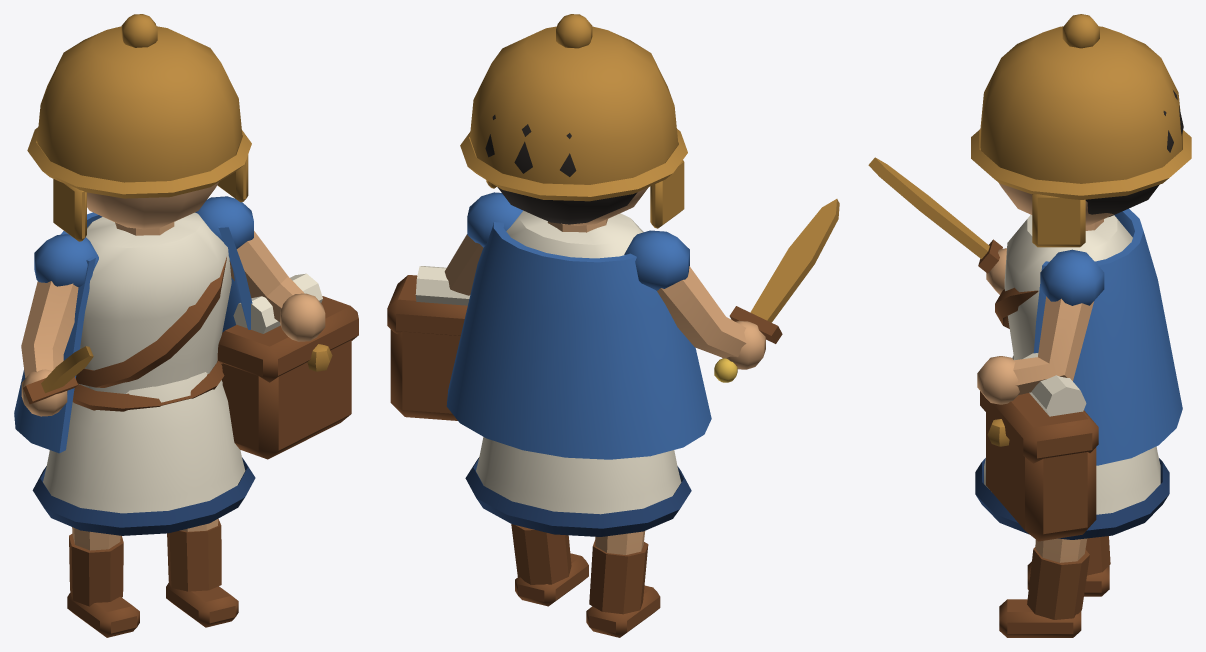
Rendered from healer.glb.
The picture shows the model from 3 angles, left to right: view 1: azimuth 30°, elevation 25°; view 2: azimuth 150°, elevation 25°; view 3: azimuth 270°, elevation 25°; orthographic projection.
Parts seen in each view (by area): view 1: healer; view 2: healer; view 3: healer.
Boxes of the visible parts, box(x1,y1,x2,y2) form: healer: box(14, 14, 358, 637); healer: box(387, 14, 839, 637); healer: box(868, 14, 1191, 637).
Bounding box in the file's own units: 0.4653 × 0.737 × 0.3627.
